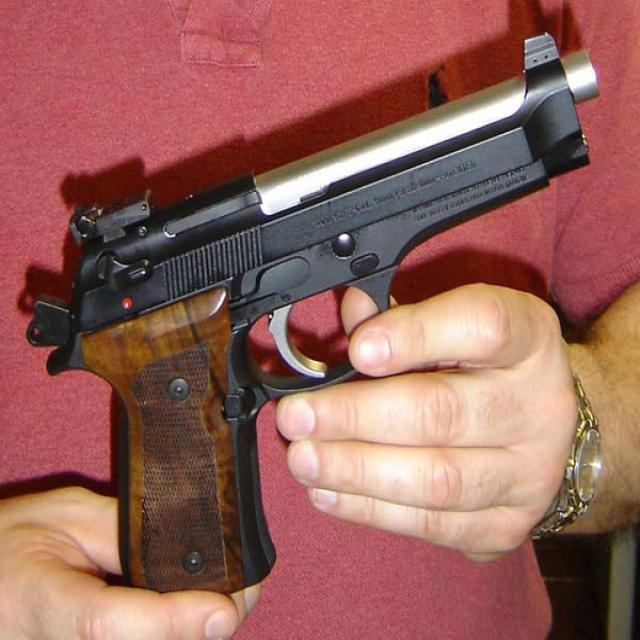Pistol: (22, 15, 627, 613)
